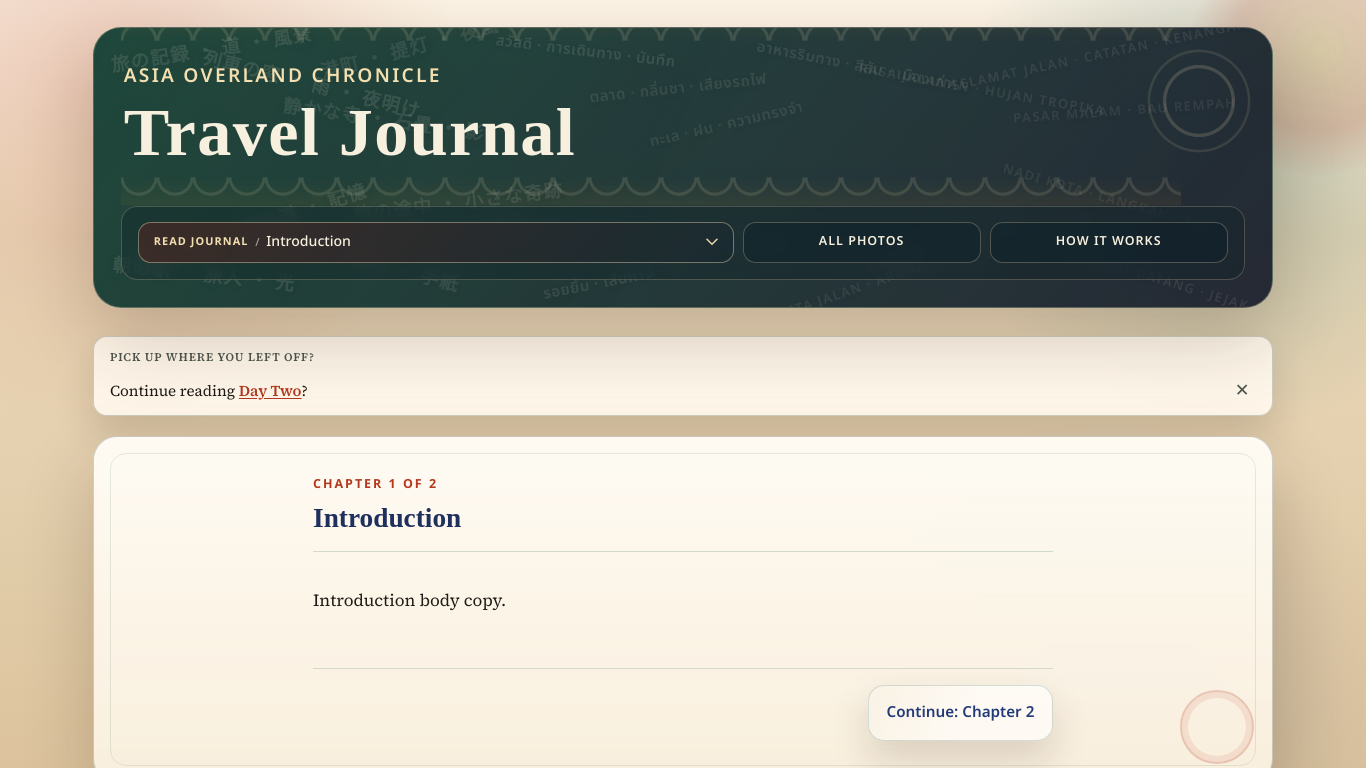
App › dismisses bookmark banner when user clicks dismiss
The image size is (1366, 768).
Expected: the text "Pick up where you left off?" is shown, x1=110 y1=349 x2=315 y2=365
Click the button named "Dismiss bookmark". click: [1242, 391]
box: x1=1228 y1=379 x2=1256 y2=403
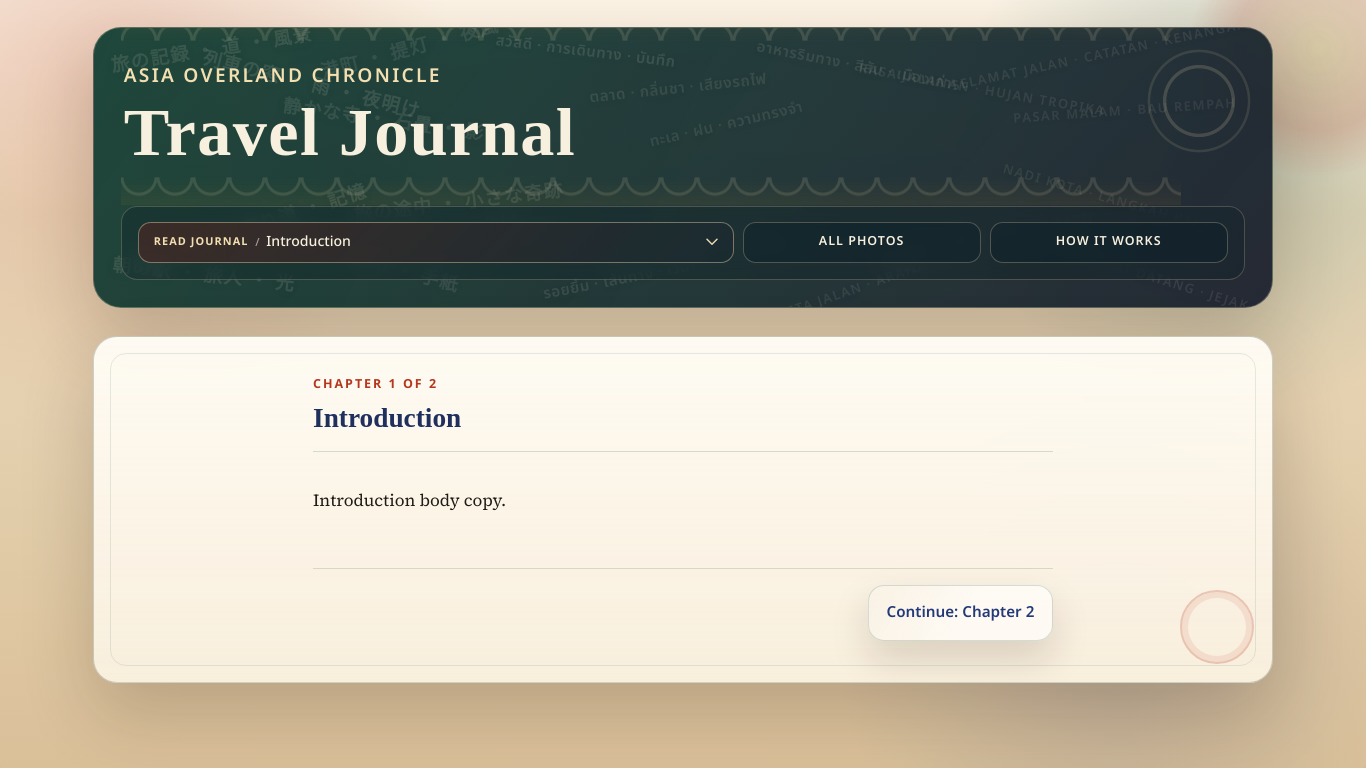
Expected: the text "Pick up where you left off" is gone
